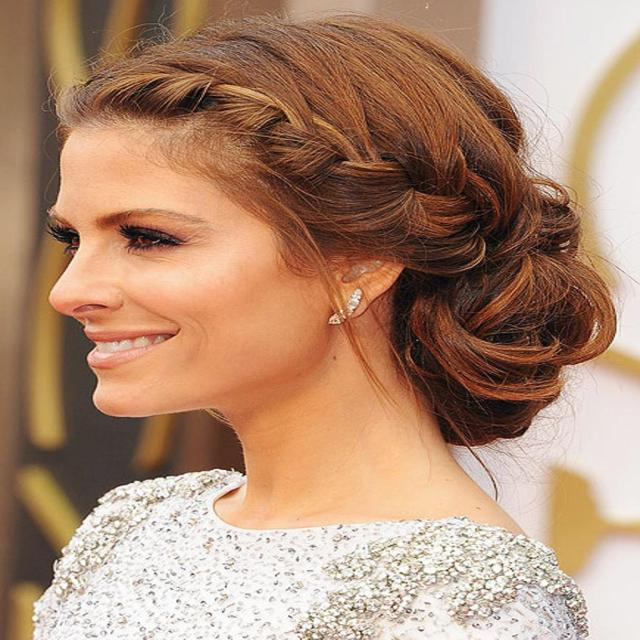Face: (26, 109, 372, 438)
